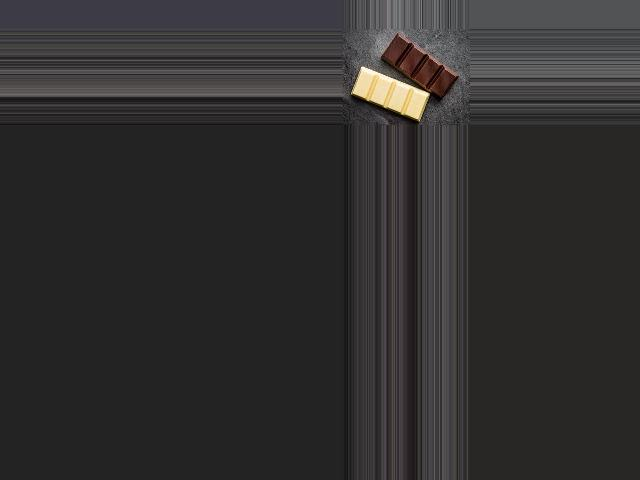chocolate: (346, 35, 457, 120)
